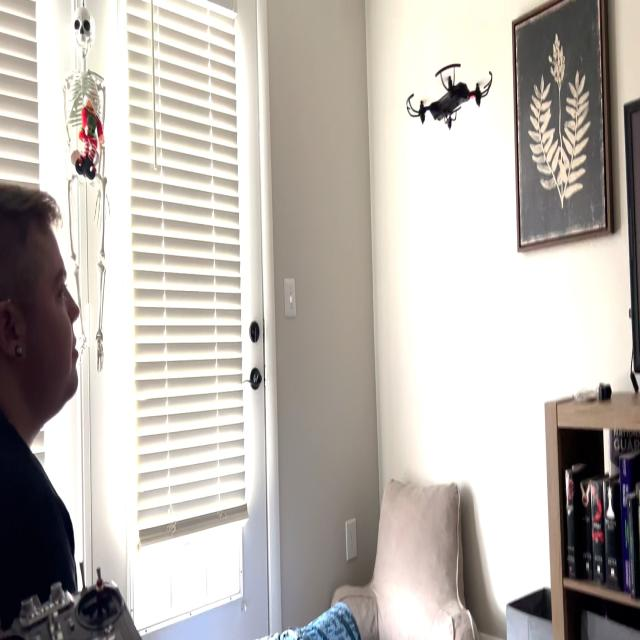drone: (400, 51, 498, 137)
